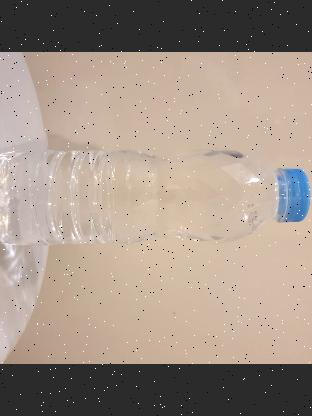Plastic Bottle: (0, 148, 310, 246)
